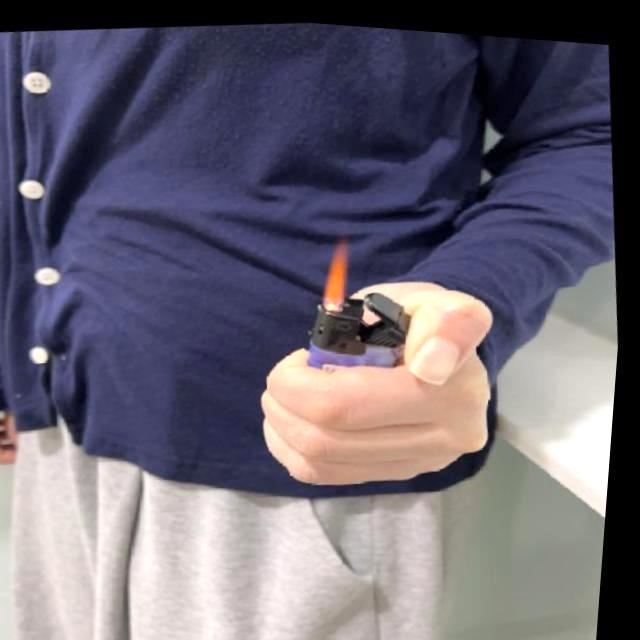fire: (314, 233, 362, 310)
